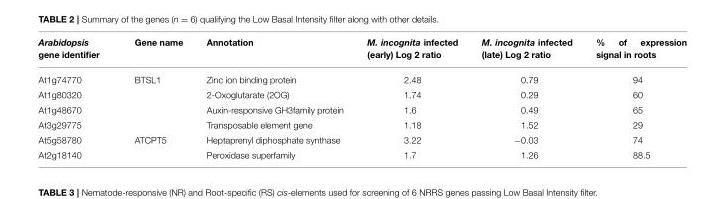table: (37, 37, 686, 159)
table column: (194, 37, 354, 159), (354, 37, 469, 159), (469, 37, 583, 159), (583, 37, 686, 159), (37, 37, 116, 159), (116, 37, 194, 159)
table column header: (37, 37, 686, 67)
table row: (37, 37, 686, 67), (37, 67, 686, 87), (37, 87, 686, 102), (37, 102, 686, 117), (37, 117, 686, 132), (37, 132, 686, 147), (37, 147, 686, 159)
